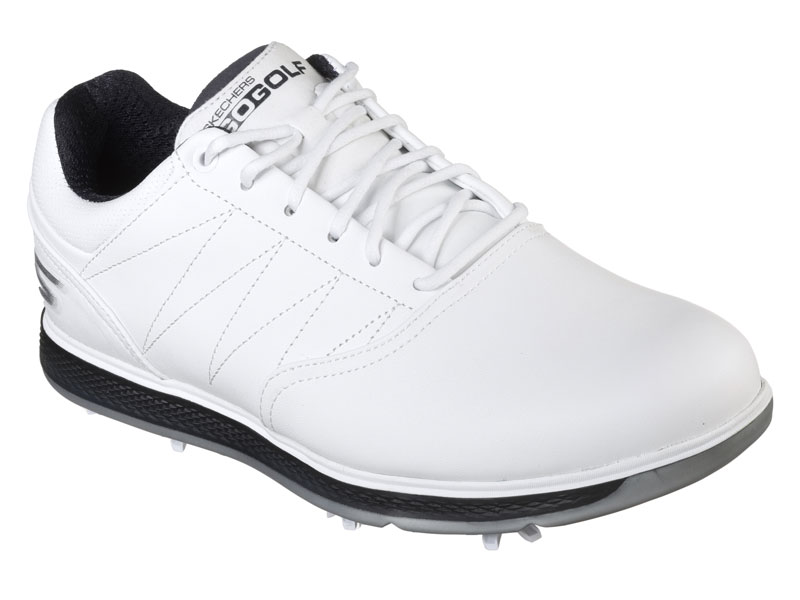man_run_shoe: (15, 38, 776, 531)
